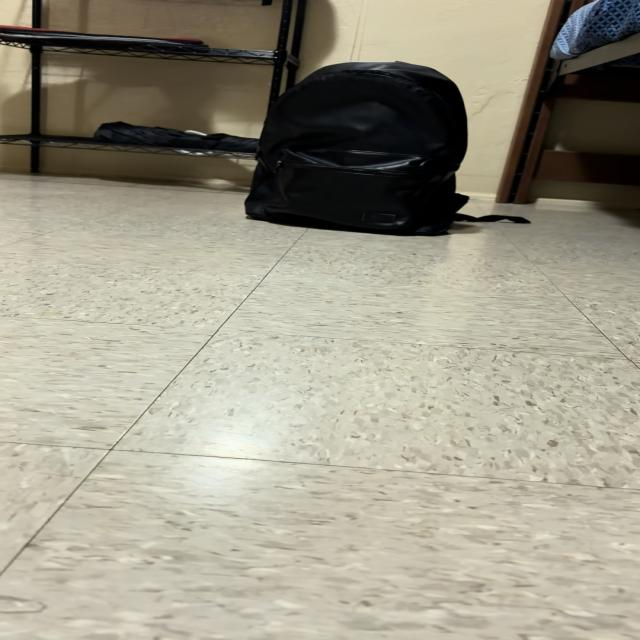backpack: (246, 62, 477, 235), (514, 220, 516, 221), (480, 219, 484, 219), (491, 217, 494, 217)
